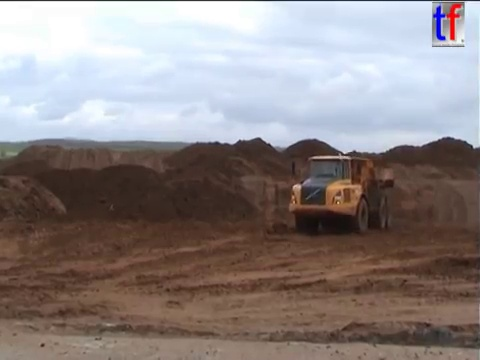truck: (286, 151, 396, 236)
